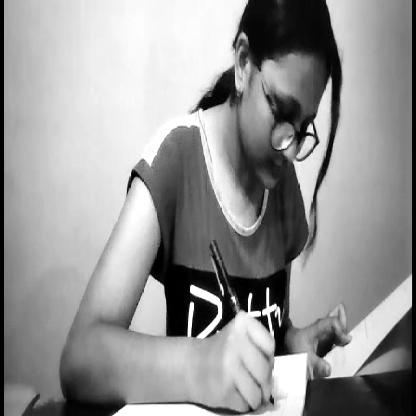Distracted: (218, 2, 343, 198)
